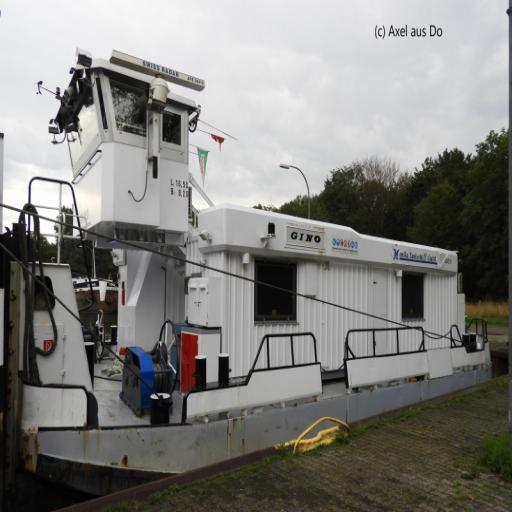tugboat: (2, 42, 495, 511)
